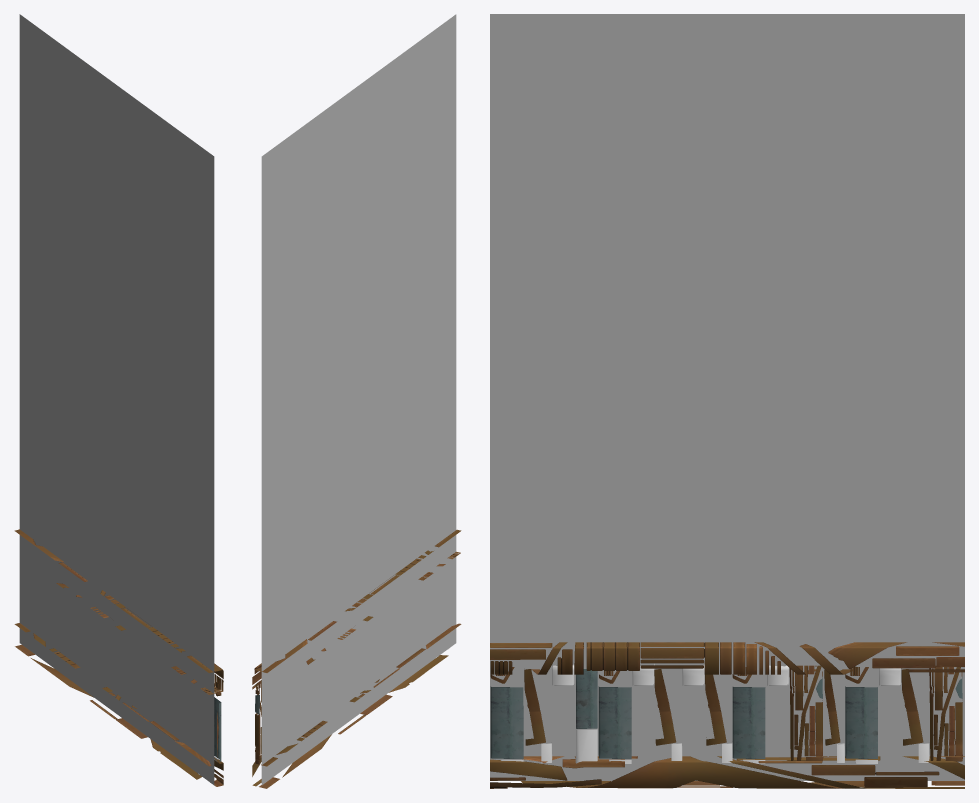
The model's file is Modular_Walls.fbx.
3 views of the same model, side by side, from view 1: azimuth 30°, elevation 25°; view 2: azimuth 150°, elevation 25°; view 3: azimuth 270°, elevation 25° (orthographic). The views are drawn at different scales.
Visible parts, largest first — view 1: wall_modular.002, wall_modular; view 2: wall_modular.002, wall_modular; view 3: wall_modular.002, wall_modular.
Boxes of the visible parts, bbox=[...] form: wall_modular.002: bbox=[19, 14, 214, 784]; wall_modular: bbox=[14, 529, 223, 786]; wall_modular.002: bbox=[261, 14, 456, 785]; wall_modular: bbox=[252, 529, 461, 788]; wall_modular.002: bbox=[490, 14, 964, 780]; wall_modular: bbox=[490, 642, 964, 788].
Size of the model in its own units: 20.84 by 847 by 474.
